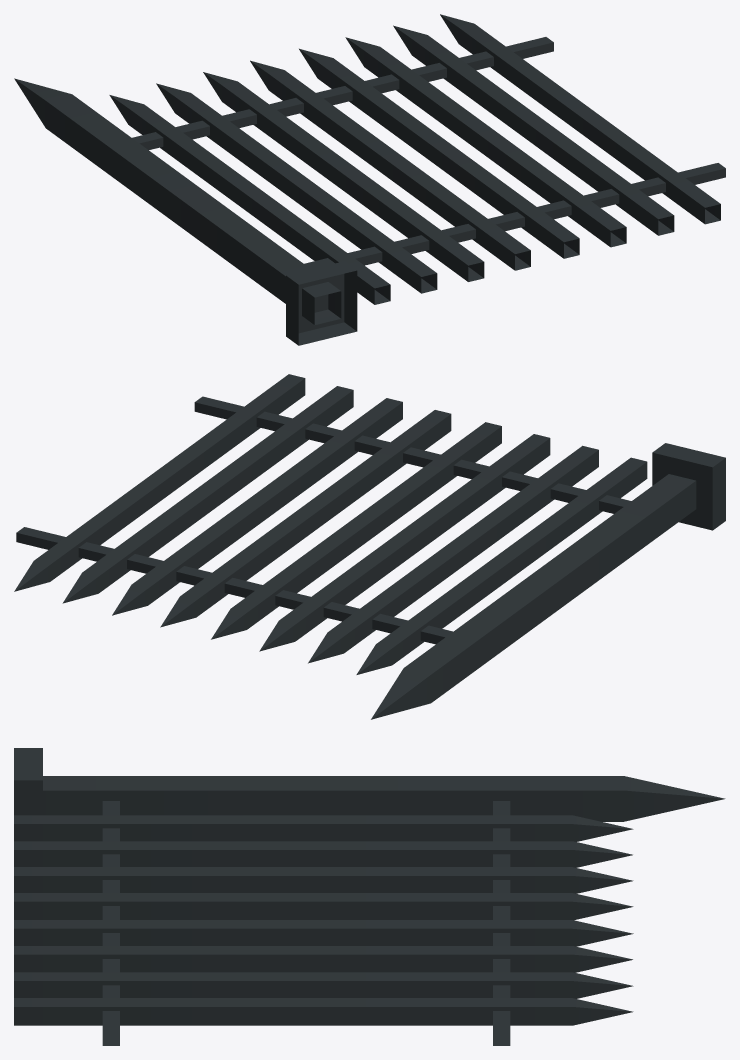
Rendered from Metal Fence 01.FBX.
3 views of the same model, one above another, from view 1: azimuth 30°, elevation 25°; view 2: azimuth 150°, elevation 25°; view 3: azimuth 270°, elevation 25° (orthographic). The views are drawn at different scales.
Visible parts, largest first — view 1: Metal Fence 01; view 2: Metal Fence 01; view 3: Metal Fence 01.
Boxes of the visible parts, box(x1,y1,x2,y2) form: Metal Fence 01: box(14, 14, 725, 345); Metal Fence 01: box(14, 374, 725, 719); Metal Fence 01: box(14, 748, 725, 1045).
Bounding box in the file's own units: 271 × 33.96 × 316.
